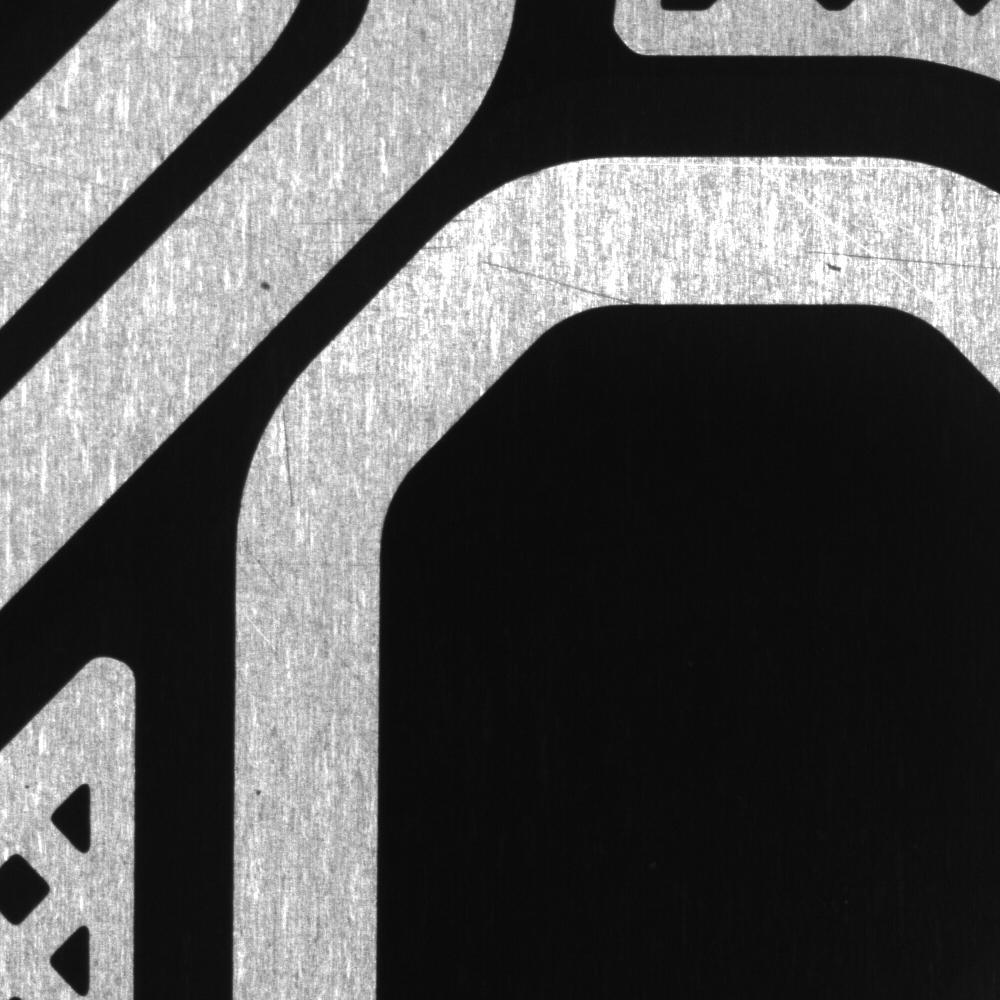Etching: (250, 271, 283, 298), (813, 256, 844, 276), (250, 784, 269, 800)
Scar: (184, 205, 373, 269), (1, 139, 147, 209), (236, 533, 342, 624), (470, 250, 646, 304), (84, 40, 270, 75), (322, 633, 378, 717), (853, 244, 998, 274), (274, 397, 300, 521)
